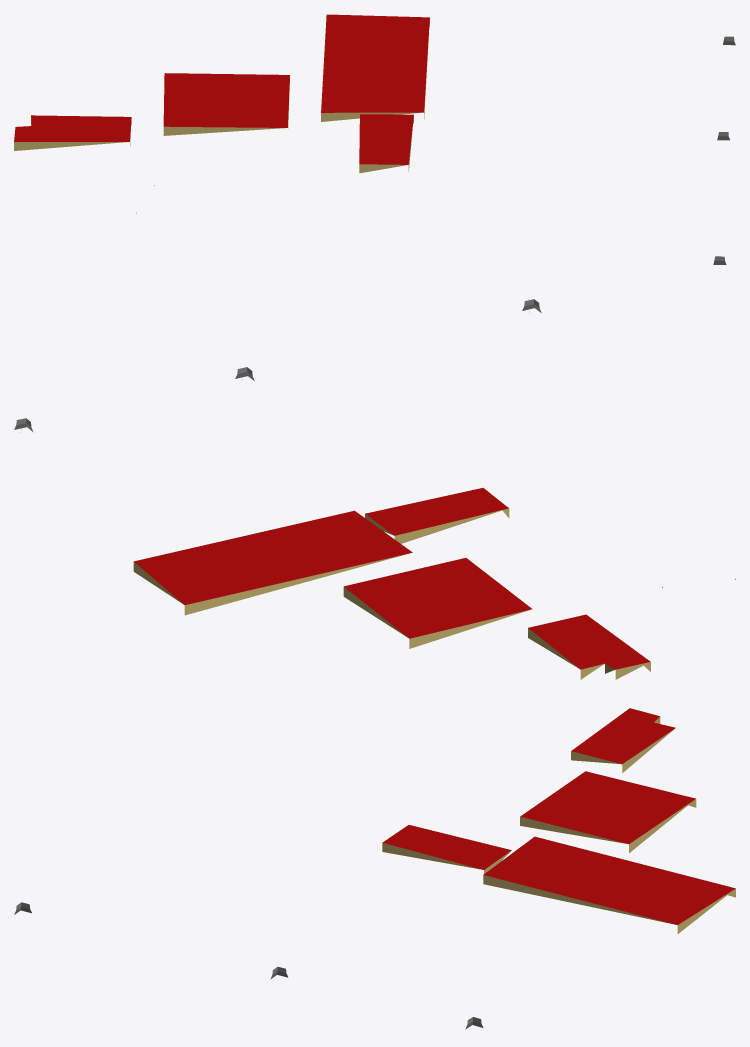
The picture shows the model from 3 angles, top to bottom: view 1: azimuth 30°, elevation 25°; view 2: azimuth 150°, elevation 25°; view 3: azimuth 270°, elevation 25°; orthographic projection. The views are drawn at different scales.
Bounding box in the file's own units: 368 × 9.5 × 351.
